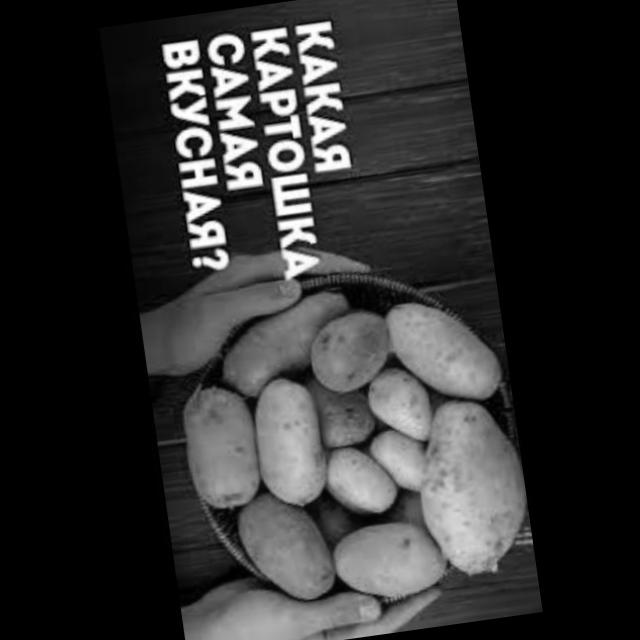potato: (402, 389, 538, 585), (202, 277, 360, 412), (384, 286, 514, 418), (244, 366, 342, 516), (328, 506, 456, 618), (233, 486, 342, 612), (176, 374, 268, 522), (306, 292, 402, 402), (318, 436, 414, 525), (362, 363, 450, 447), (314, 380, 390, 459), (368, 425, 442, 499)
